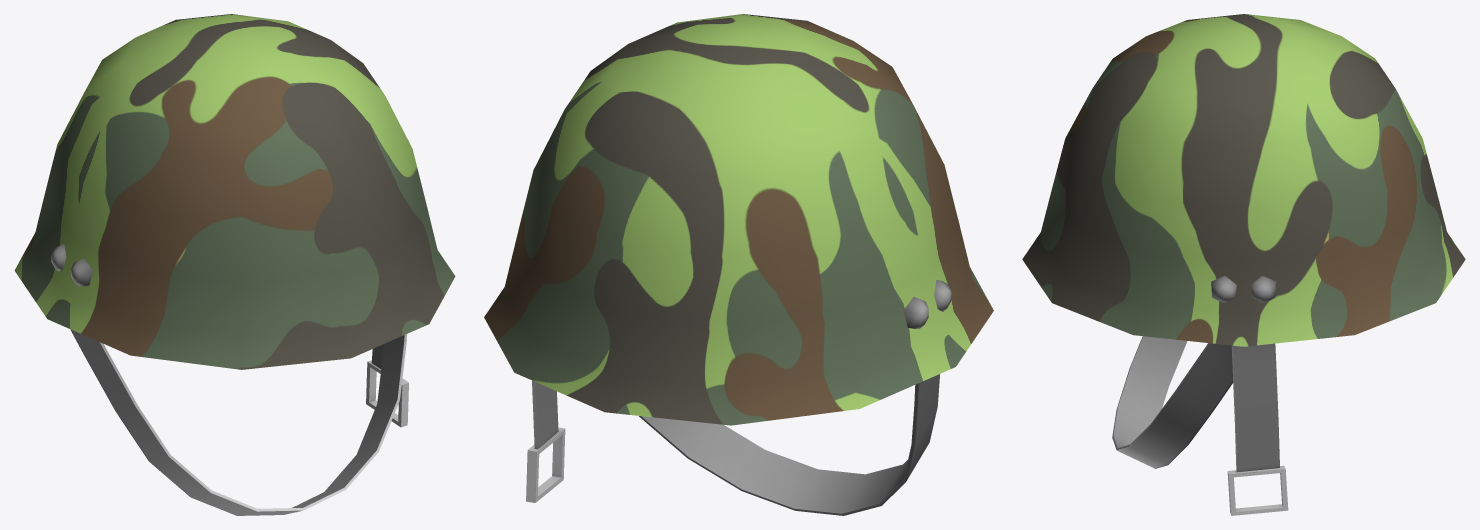
File: hat3.fbx
3 renders of one model, left to right at view 1: azimuth 30°, elevation 25°; view 2: azimuth 150°, elevation 25°; view 3: azimuth 270°, elevation 25°, orthographic. The views are drawn at different scales.
Parts seen in each view (by area): view 1: polySurface518; view 2: polySurface518; view 3: polySurface518.
Part boxes in pixels (x1,y1,x2,y2): polySurface518: (14, 14, 455, 515); polySurface518: (484, 14, 993, 515); polySurface518: (1022, 14, 1465, 515).
Bounding box in the file's own units: 25.19 × 28.47 × 26.99.
